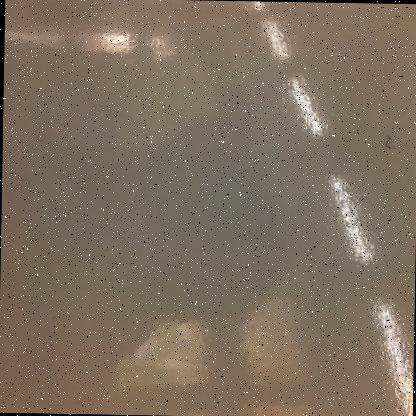Nocrack: (12, 2, 415, 409)
